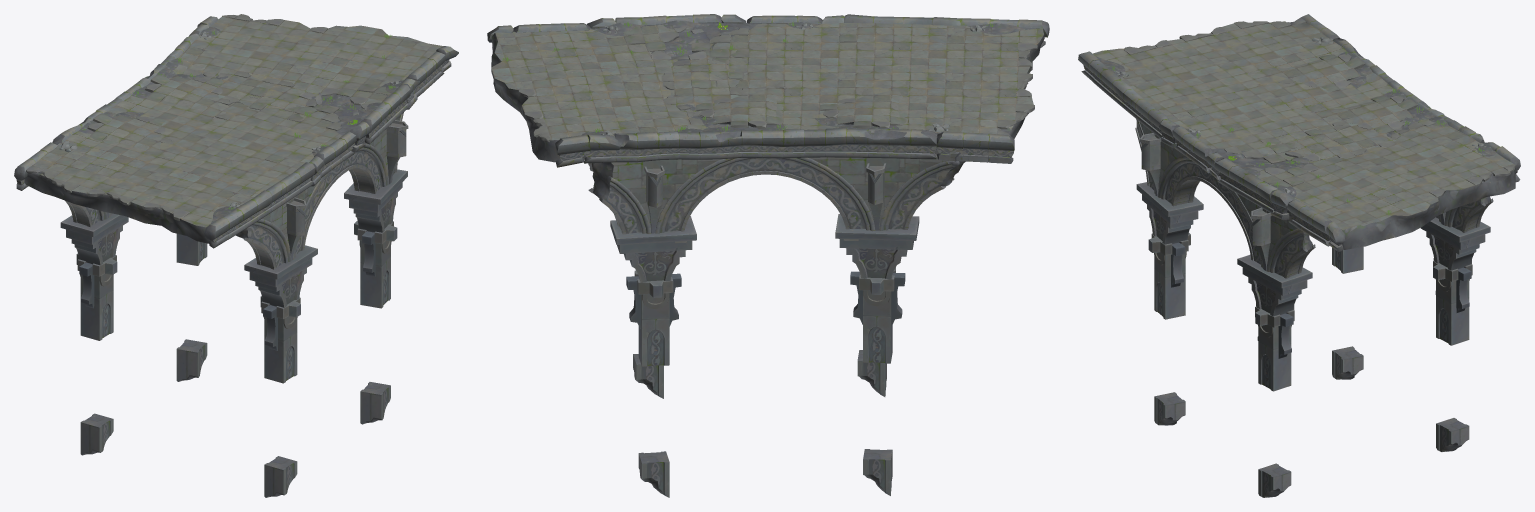
Rendered from SkillObj_Monster_Dvalin_Platform_09.fbx.
3 views of the same model, side by side, from view 1: azimuth 30°, elevation 25°; view 2: azimuth 150°, elevation 25°; view 3: azimuth 270°, elevation 25° (orthographic). The views are drawn at different scales.
Parts seen in each view (by area): view 1: Area_MdBuild_SdBridge13_Lod0.001, Area_MdBuild_SdArch06_04_Lod0.001, Area_MdProps_SdPillar02_02_Lod0.001, Area_MdProps_SdPillar02_02_Lod0.003, Area_MdProps_SdPillar02_02_Lod0.002, Area_MdBuild_SdRuins07_07_Lod0, Area_MdBuild_SdWall01_08_Lod0, Area_MdProps_SdPillar02_03_Lod0.003, Area_MdBuild_SdWall01_08_Lod0.001, Area_MdProps_SdPillar02_03_Lod0.001, Area_MdBuild_SdArch06_02_Lod0.001, Area_MdProps_SdPillar02_03_Lod0.002 (+10 smaller); view 2: Area_MdBuild_SdBridge13_Lod0.001, Area_MdBuild_SdArch06_04_Lod0, Area_MdBuild_SdArch06_02_Lod0, Area_MdProps_SdPillar02_02_Lod0, Area_MdProps_SdPillar02_02_Lod0.001, Area_MdBuild_SdArch06_01_Lod0, Area_MdBuild_SdRuins07_07_Lod0, Area_MdProps_SdPillar02_03_Lod0, Area_MdProps_SdPillar02_03_Lod0.001, Area_MdBuild_SdWall01_08_Lod0, Area_MdBuild_SdWall01_08_Lod0.001, Area_MdProps_SdPillar02_04_Lod0 (+7 smaller); view 3: Area_MdBuild_SdBridge13_Lod0.001, Area_MdBuild_SdArch06_04_Lod0.001, Area_MdProps_SdPillar02_02_Lod0.002, Area_MdProps_SdPillar02_02_Lod0, Area_MdBuild_SdRuins07_07_Lod0, Area_MdProps_SdPillar02_02_Lod0.003, Area_MdBuild_SdWall01_08_Lod0, Area_MdProps_SdPillar02_03_Lod0.002, Area_MdBuild_SdWall01_08_Lod0.001, Area_MdProps_SdPillar02_03_Lod0, Area_MdProps_SdPillar02_03_Lod0.003, Area_MdBuild_SdArch06_01_Lod0.001 (+10 smaller).
Boxes of the visible parts, left/top/right/bottom form: Area_MdBuild_SdBridge13_Lod0.001: left=14, top=15, right=458, bottom=248; Area_MdBuild_SdArch06_04_Lod0.001: left=290, top=129, right=388, bottom=259; Area_MdProps_SdPillar02_02_Lod0.001: left=76, top=253, right=117, bottom=340; Area_MdProps_SdPillar02_02_Lod0.003: left=260, top=296, right=300, bottom=383; Area_MdProps_SdPillar02_02_Lod0.002: left=354, top=220, right=397, bottom=308; Area_MdBuild_SdRuins07_07_Lod0: left=204, top=72, right=316, bottom=111; Area_MdBuild_SdWall01_08_Lod0: left=145, top=74, right=231, bottom=119; Area_MdProps_SdPillar02_03_Lod0.003: left=244, top=245, right=317, bottom=307; Area_MdBuild_SdWall01_08_Lod0.001: left=87, top=113, right=173, bottom=159; Area_MdProps_SdPillar02_03_Lod0.001: left=60, top=213, right=128, bottom=265; Area_MdBuild_SdArch06_02_Lod0.001: left=236, top=197, right=295, bottom=269; Area_MdProps_SdPillar02_03_Lod0.002: left=344, top=169, right=407, bottom=232; Area_MdBuild_SdBridge13_Lod0.001: left=487, top=14, right=1049, bottom=167; Area_MdBuild_SdArch06_04_Lod0: left=653, top=157, right=877, bottom=243; Area_MdBuild_SdArch06_02_Lod0: left=877, top=152, right=965, bottom=230; Area_MdProps_SdPillar02_02_Lod0: left=626, top=270, right=681, bottom=366; Area_MdProps_SdPillar02_02_Lod0.001: left=850, top=267, right=905, bottom=363; Area_MdBuild_SdArch06_01_Lod0: left=588, top=160, right=653, bottom=234; Area_MdBuild_SdRuins07_07_Lod0: left=661, top=51, right=744, bottom=117; Area_MdProps_SdPillar02_03_Lod0: left=610, top=216, right=696, bottom=282; Area_MdProps_SdPillar02_03_Lod0.001: left=835, top=214, right=919, bottom=279; Area_MdBuild_SdWall01_08_Lod0: left=696, top=80, right=788, bottom=128; Area_MdBuild_SdWall01_08_Lod0.001: left=820, top=81, right=909, bottom=128; Area_MdProps_SdPillar02_04_Lod0: left=638, top=451, right=669, bottom=497; Area_MdBuild_SdBridge13_Lod0.001: left=1078, top=14, right=1520, bottom=251; Area_MdBuild_SdArch06_04_Lod0.001: left=1157, top=136, right=1266, bottom=269; Area_MdProps_SdPillar02_02_Lod0.002: left=1255, top=304, right=1294, bottom=391; Area_MdProps_SdPillar02_02_Lod0: left=1433, top=258, right=1472, bottom=345; Area_MdBuild_SdRuins07_07_Lod0: left=1285, top=123, right=1404, bottom=161; Area_MdProps_SdPillar02_02_Lod0.003: left=1148, top=233, right=1190, bottom=319; Area_MdBuild_SdWall01_08_Lod0: left=1302, top=95, right=1417, bottom=133; Area_MdProps_SdPillar02_03_Lod0.002: left=1237, top=254, right=1312, bottom=316; Area_MdBuild_SdWall01_08_Lod0.001: left=1248, top=54, right=1365, bottom=91; Area_MdProps_SdPillar02_03_Lod0: left=1420, top=217, right=1490, bottom=270; Area_MdProps_SdPillar02_03_Lod0.003: left=1136, top=182, right=1203, bottom=244; Area_MdBuild_SdArch06_01_Lod0.001: left=1263, top=210, right=1315, bottom=279.
Bounding box in the file's own units: 45.09 × 31.25 × 37.95.
14 materials, 14 textured.
